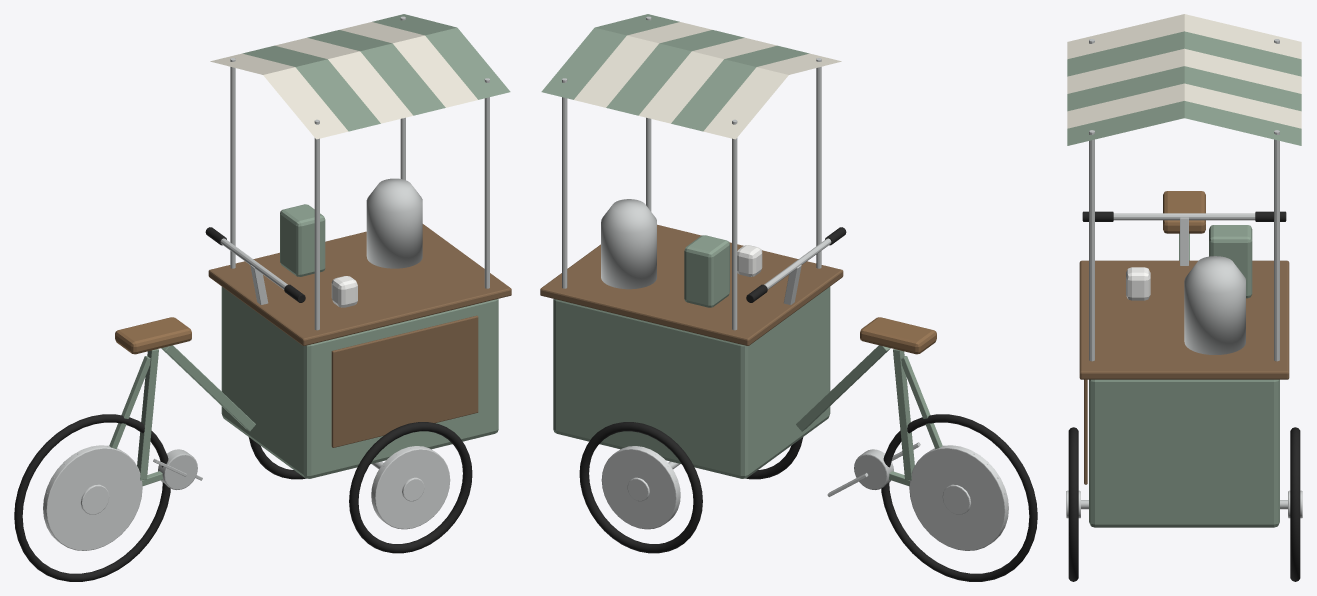
File: city-tricycle-coffee-cart.glb
The picture shows the model from 3 angles, left to right: view 1: azimuth 30°, elevation 25°; view 2: azimuth 150°, elevation 25°; view 3: azimuth 270°, elevation 25°; orthographic projection. The views are drawn at different scales.
Visible parts, largest first — view 1: Assembly | Sage green cart paint, Assembly | Oiled walnut counter, Assembly | Silver bicycle rim, Assembly | Polished steel tube, Assembly | Striped canopy canvas, Assembly | Black bicycle tyre, Assembly | Brown saddle leather, Assembly | White paper cups; view 2: Assembly | Sage green cart paint, Assembly | Oiled walnut counter, Assembly | Silver bicycle rim, Assembly | Polished steel tube, Assembly | Striped canopy canvas, Assembly | Black bicycle tyre, Assembly | Brown saddle leather, Assembly | White paper cups; view 3: Assembly | Sage green cart paint, Assembly | Oiled walnut counter, Assembly | Striped canopy canvas, Assembly | Polished steel tube, Assembly | Black bicycle tyre, Assembly | Brown saddle leather, Assembly | White paper cups, Assembly | Silver bicycle rim.
Boxes of the visible parts, x1,y1,x2,y2 form: Assembly | Sage green cart paint: [109, 14, 510, 485]; Assembly | Oiled walnut counter: [208, 224, 511, 447]; Assembly | Silver bicycle rim: [43, 445, 450, 550]; Assembly | Polished steel tube: [44, 16, 489, 537]; Assembly | Striped canopy canvas: [210, 22, 477, 139]; Assembly | Black bicycle tyre: [14, 227, 472, 581]; Assembly | Brown saddle leather: [115, 317, 191, 354]; Assembly | White paper cups: [331, 276, 357, 307]; Assembly | Sage green cart paint: [541, 14, 942, 485]; Assembly | Oiled walnut counter: [540, 224, 843, 345]; Assembly | Silver bicycle rim: [601, 445, 1008, 550]; Assembly | Polished steel tube: [562, 16, 1007, 537]; Assembly | Striped canopy canvas: [574, 22, 841, 139]; Assembly | Black bicycle tyre: [579, 227, 1037, 581]; Assembly | Brown saddle leather: [860, 317, 936, 354]; Assembly | White paper cups: [737, 245, 762, 276]; Assembly | Sage green cart paint: [1067, 31, 1301, 527]; Assembly | Oiled walnut counter: [1079, 260, 1289, 484]; Assembly | Striped canopy canvas: [1067, 14, 1301, 128]; Assembly | Polished steel tube: [1081, 39, 1287, 509]; Assembly | Black bicycle tyre: [1068, 211, 1300, 581]; Assembly | Brown saddle leather: [1163, 191, 1205, 233]; Assembly | White paper cups: [1126, 267, 1150, 300]; Assembly | Silver bicycle rim: [1066, 490, 1302, 518].
Bounding box in the file's own units: 1.85 × 1.82 × 0.7673.
